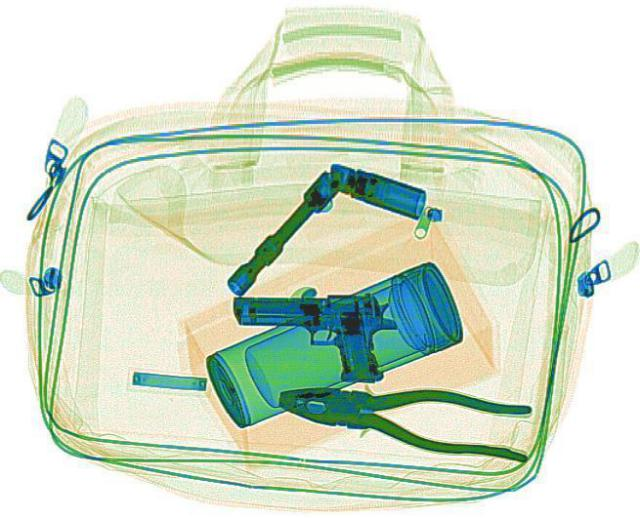Gun: (228, 287, 398, 382)
Pliers: (270, 370, 538, 459)
